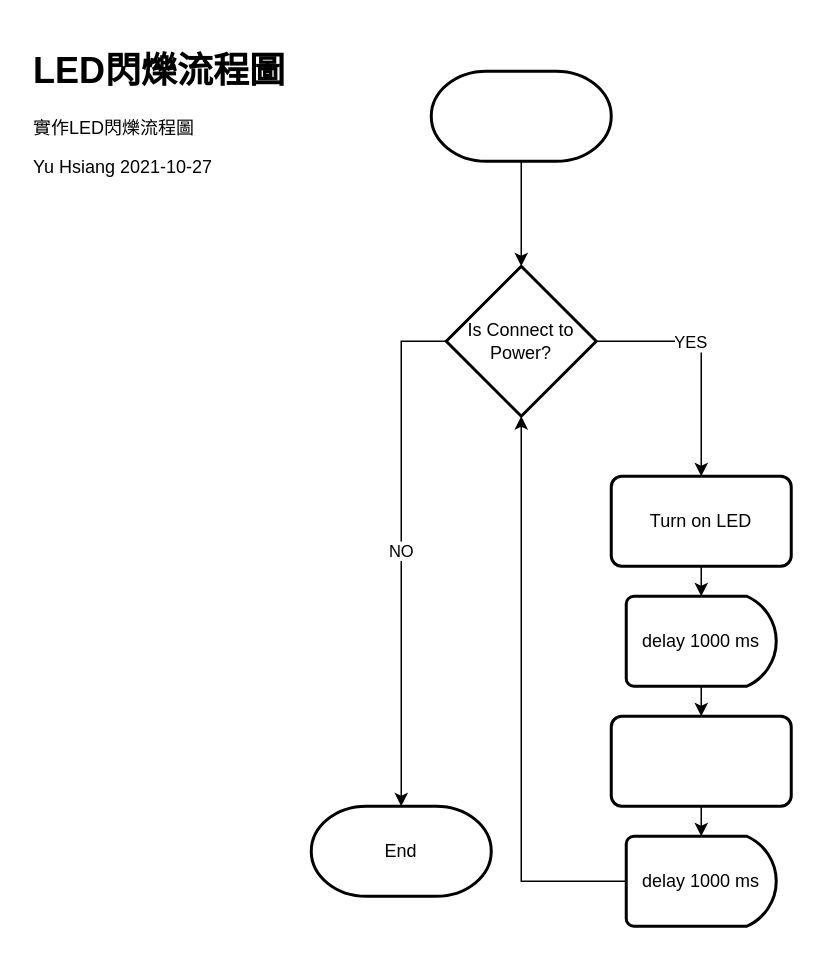
Image size: 818x953. Some labels were removed from this diagram. The centre of each missing label's shape, as x and y in pixels:
"Start" belongs at [520,115].
"Turn off LED" belongs at [700,760].
